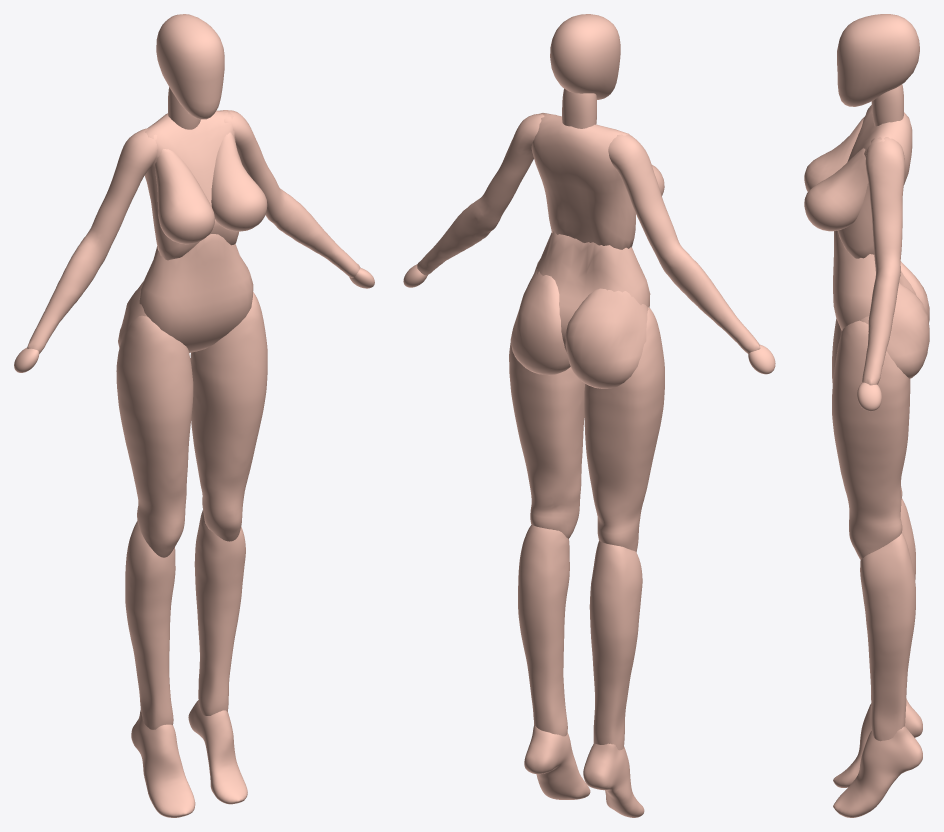
Rendered from female-body.gltf.
3 renders of one model, left to right at view 1: azimuth 30°, elevation 25°; view 2: azimuth 150°, elevation 25°; view 3: azimuth 270°, elevation 25°, orthographic. The views are drawn at different scales.
Visible parts, largest first — view 1: blockout female; view 2: blockout female; view 3: blockout female.
Boxes of the visible parts, x1,y1,x2,y2 form: blockout female: (14,14,374,817); blockout female: (403,14,775,817); blockout female: (804,14,929,817).
Bounding box in the file's own units: 0.8791 × 1.83 × 0.2649.
